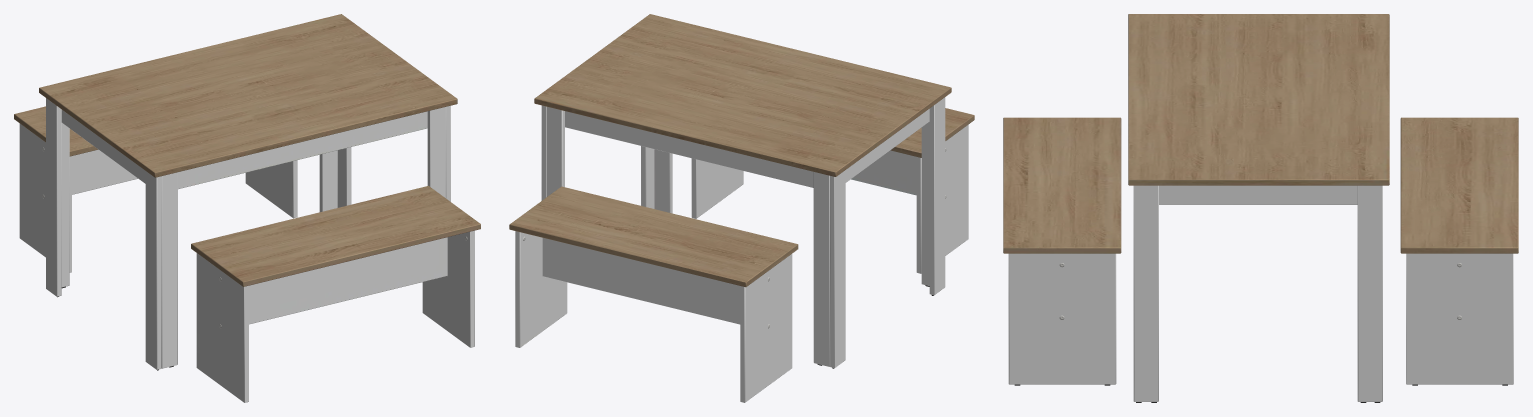
The model's file is abo-B07QV194JP.glb.
3 renders of one model, left to right at view 1: azimuth 30°, elevation 25°; view 2: azimuth 150°, elevation 25°; view 3: azimuth 270°, elevation 25°, orthographic. The views are drawn at different scales.
Size of the model in its own units: 1.1 by 0.7 by 1.44.
1 material, 1 textured.
